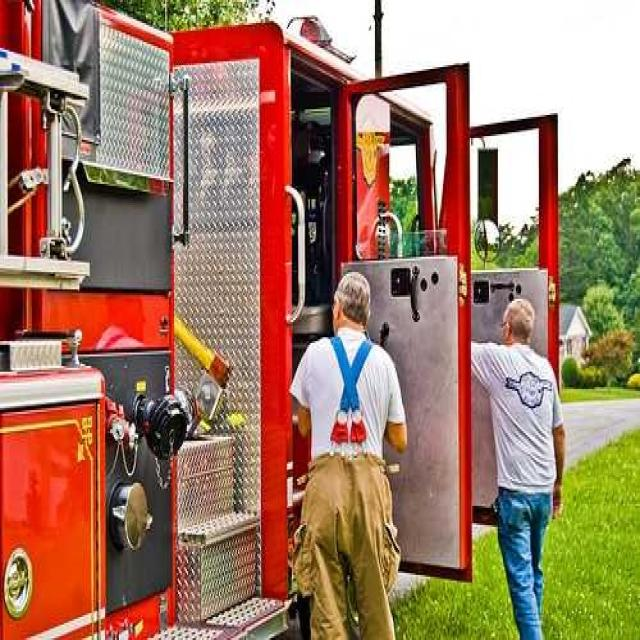ambulance: (18, 5, 559, 567)
